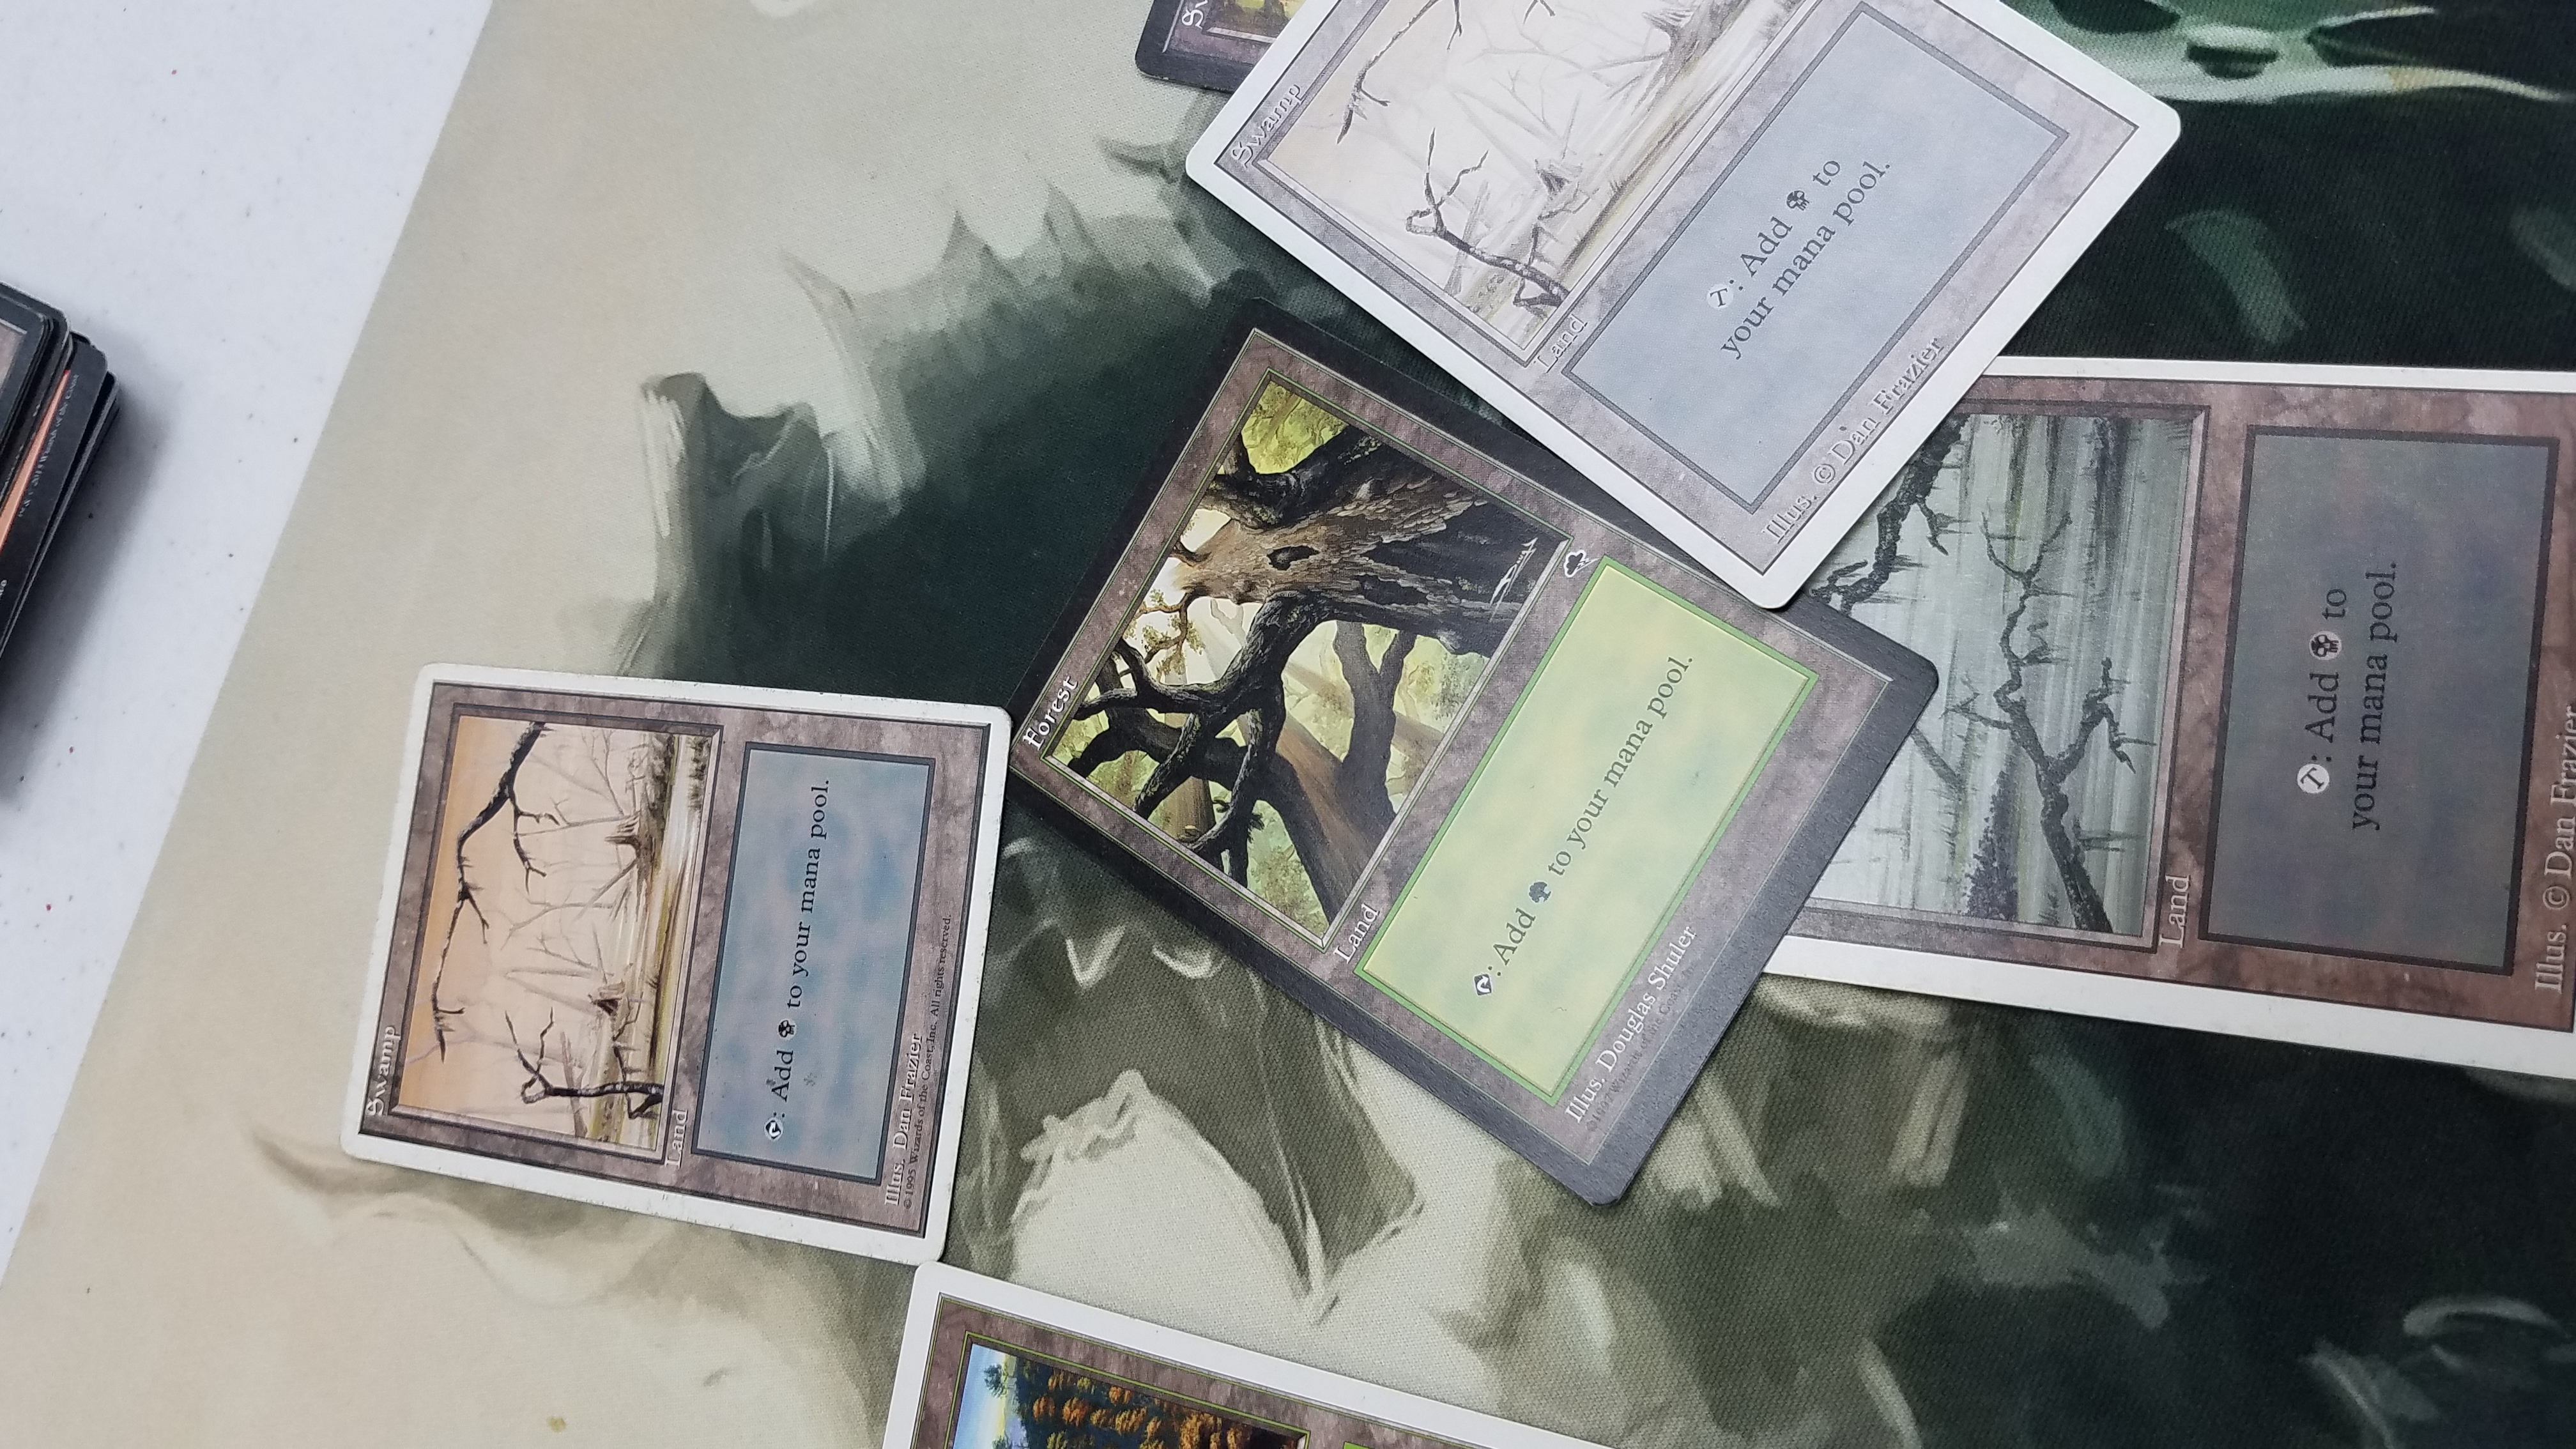Card: (993, 294, 1948, 1224), (1175, 0, 2183, 607), (336, 660, 1003, 1279)
